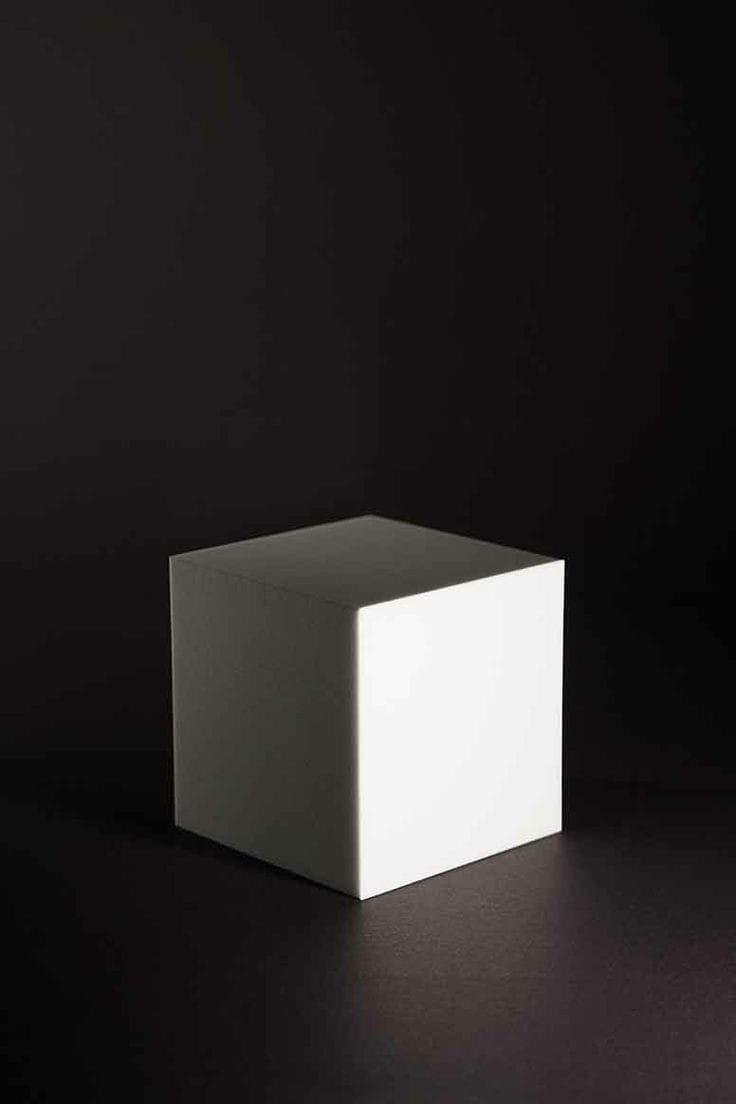cubos: (145, 500, 605, 907)
